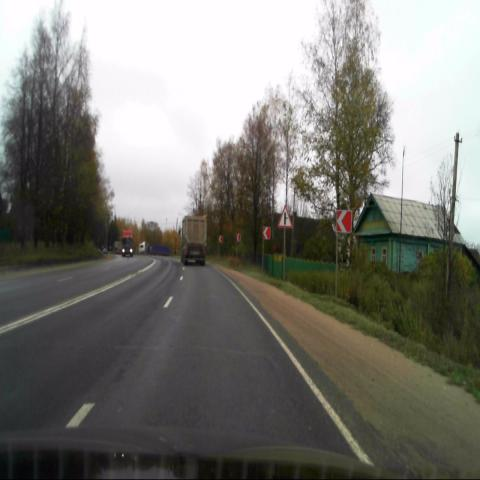2_3_2: (277, 204, 293, 228)
